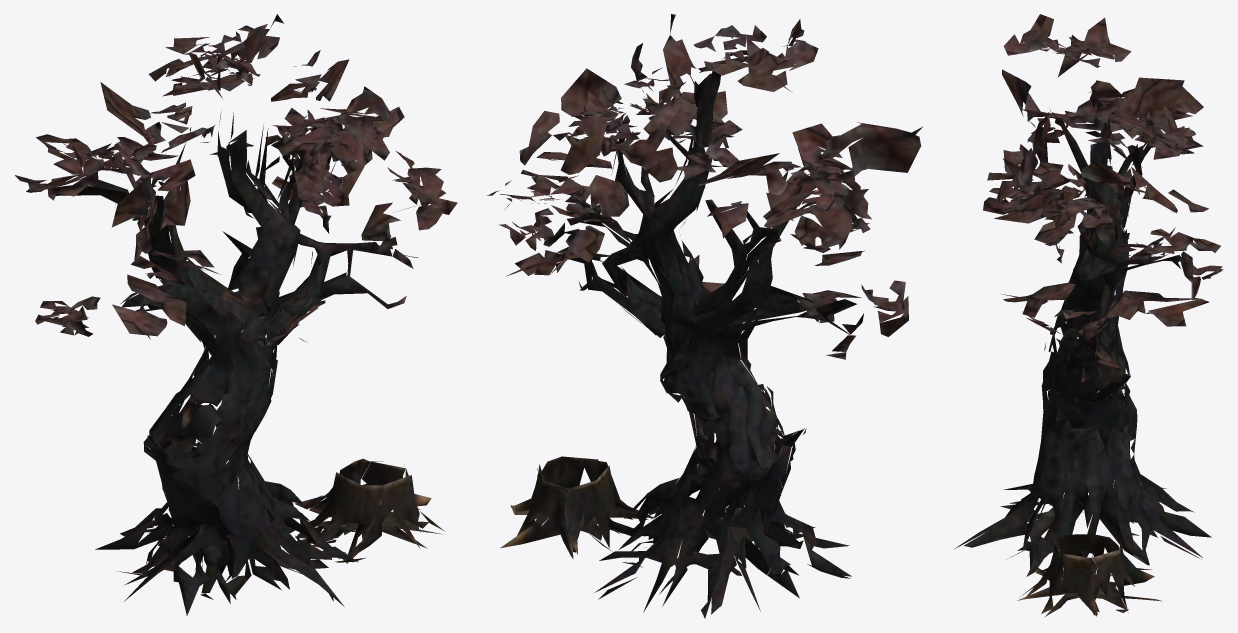
File: arvore_brasa_toco.glb
3 renders of one model, left to right at view 1: azimuth 30°, elevation 25°; view 2: azimuth 150°, elevation 25°; view 3: azimuth 270°, elevation 25°, orthographic. The views are drawn at different scales.
Visible parts, largest first — view 1: geometry_0.062; view 2: geometry_0.062; view 3: geometry_0.062.
Boxes of the visible parts, x1,y1,x2,y2 form: geometry_0.062: (15, 14, 457, 615); geometry_0.062: (487, 14, 922, 618); geometry_0.062: (954, 14, 1223, 616).
Size of the model in its own units: 0.7094 by 0.8945 by 0.4437.
1 material, 1 textured.
